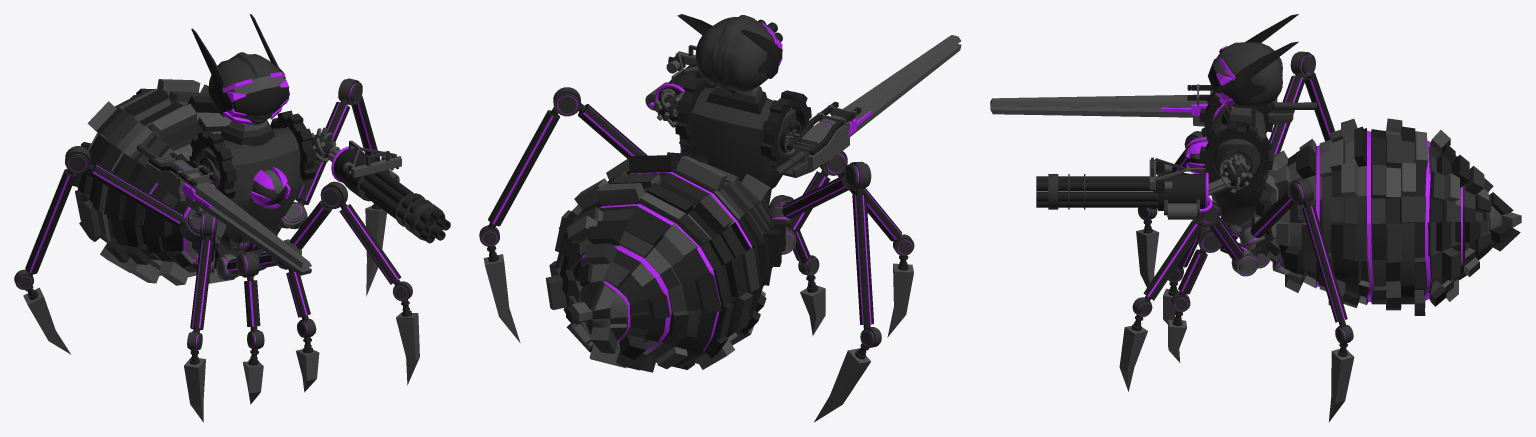
The model's file is boss.fbx.
3 renders of one model, left to right at view 1: azimuth 30°, elevation 25°; view 2: azimuth 150°, elevation 25°; view 3: azimuth 270°, elevation 25°, orthographic. The views are drawn at different scales.
Parts seen in each view (by area): view 1: ass, railgun1, polySurface25, polySurface26, regs39, regs41, polySurface32, polySurface30, body12, body13, regs33, regs10 (+30 smaller); view 2: ass, polySurface32, railgun1, polySurface25, polySurface26, regs41, regs2, body12, regs44, regs1, bodyparts6, body13 (+11 smaller); view 3: ass, railgun1, polySurface26, polySurface32, body13, polySurface31, regs2, polySurface2, regs10, polySurface3, bodyparts6, polySurface8 (+15 smaller).
Part boxes in pixels (bbox=[...]): ass: bbox=[72, 79, 288, 285]; railgun1: bbox=[162, 159, 311, 275]; polySurface25: bbox=[201, 140, 267, 243]; polySurface26: bbox=[260, 127, 303, 234]; regs39: bbox=[87, 162, 185, 226]; regs41: bbox=[25, 168, 76, 275]; polySurface32: bbox=[208, 52, 280, 125]; polySurface30: bbox=[191, 28, 252, 124]; body12: bbox=[189, 130, 236, 198]; body13: bbox=[270, 110, 316, 184]; regs33: bbox=[190, 236, 213, 333]; regs10: bbox=[339, 202, 401, 285]; ass: bbox=[545, 152, 785, 372]; polySurface32: bbox=[695, 15, 774, 94]; railgun1: bbox=[795, 35, 961, 160]; polySurface25: bbox=[725, 98, 796, 206]; polySurface26: bbox=[686, 87, 734, 171]; regs41: bbox=[852, 188, 873, 329]; regs2: bbox=[488, 107, 559, 229]; body12: bbox=[760, 90, 811, 169]; regs44: bbox=[814, 348, 870, 422]; regs1: bbox=[578, 103, 647, 158]; bodyparts6: bbox=[483, 254, 520, 342]; body13: bbox=[675, 70, 716, 147]; ass: bbox=[1272, 118, 1521, 315]; railgun1: bbox=[990, 94, 1216, 117]; polySurface26: bbox=[1208, 122, 1268, 224]; polySurface32: bbox=[1219, 42, 1282, 108]; body13: bbox=[1199, 122, 1273, 193]; polySurface31: bbox=[1216, 41, 1298, 105]; regs2: bbox=[1302, 199, 1347, 328]; polySurface2: bbox=[1158, 172, 1205, 210]; regs10: bbox=[1143, 219, 1202, 300]; polySurface3: bbox=[1036, 192, 1157, 201]; bodyparts6: bbox=[1328, 349, 1354, 422]; polySurface8: bbox=[1036, 181, 1153, 190].
Size of the model in its own units: 12953 by 11042 by 16382.
